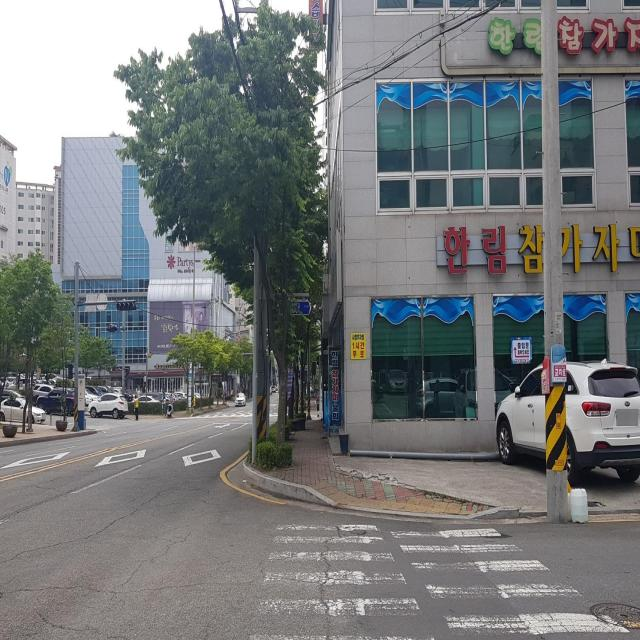횡단보도: (246, 521, 632, 640)
